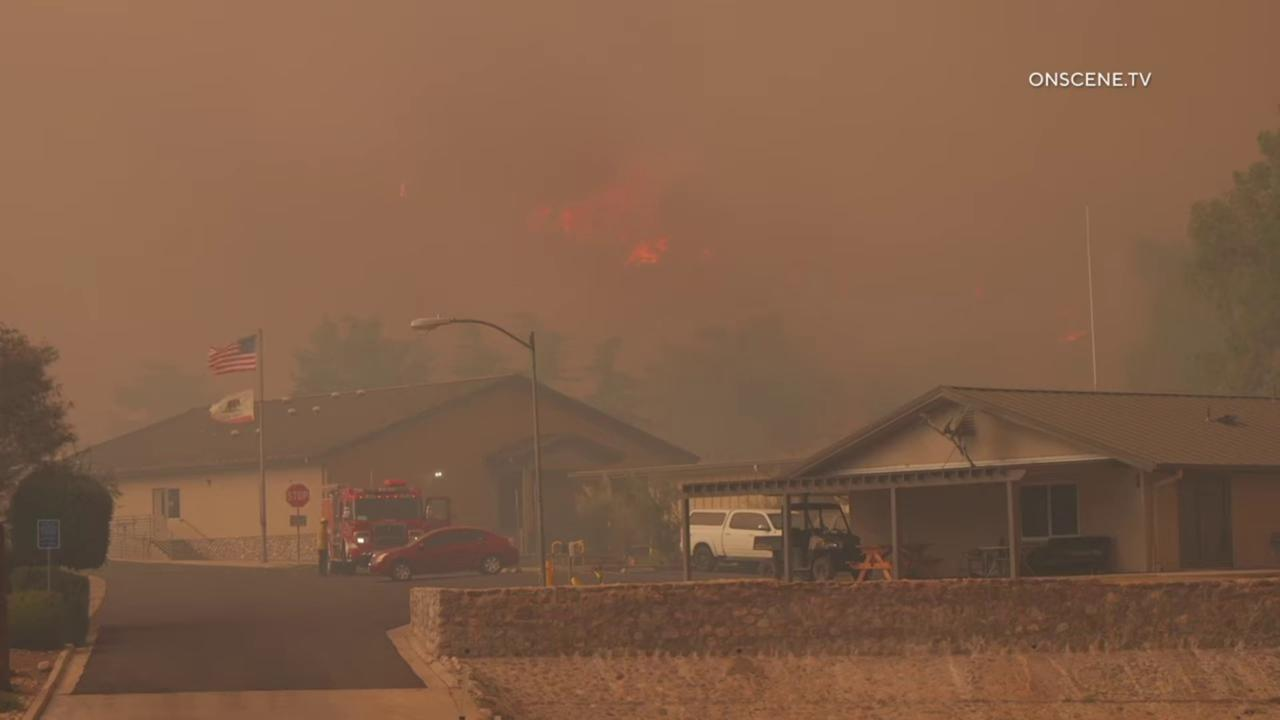fire: (627, 236, 671, 267), (524, 206, 553, 231), (558, 204, 577, 236), (1060, 329, 1088, 344), (396, 180, 410, 198)
smoke: (0, 0, 1280, 472)
